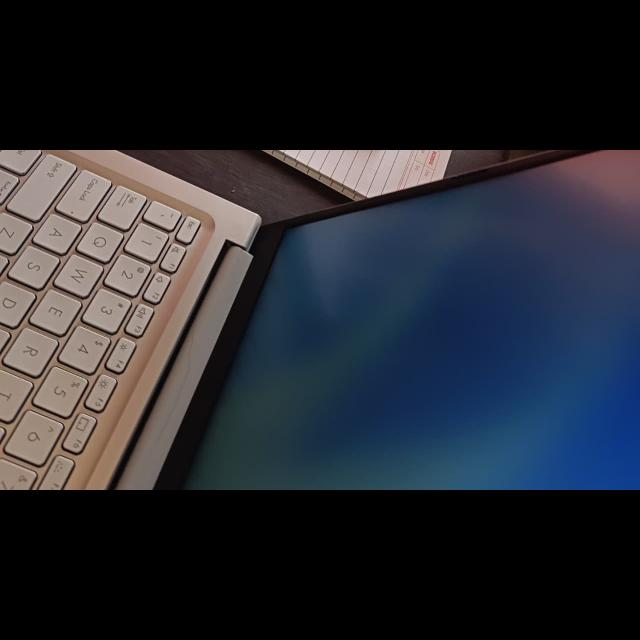laptop: (5, 151, 640, 491)
